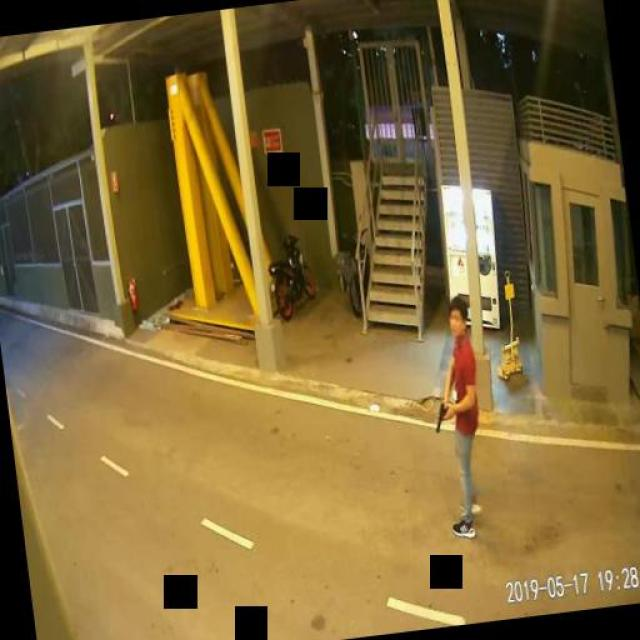gun: (431, 398, 451, 432)
